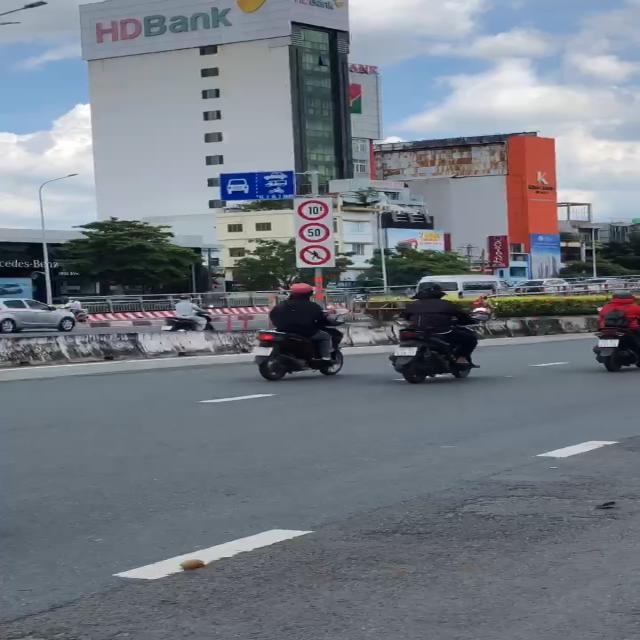Bien bao cam nguoi di bo: (298, 243, 335, 266)
Bien bao toc do toi da cho phep: (298, 220, 330, 244)
